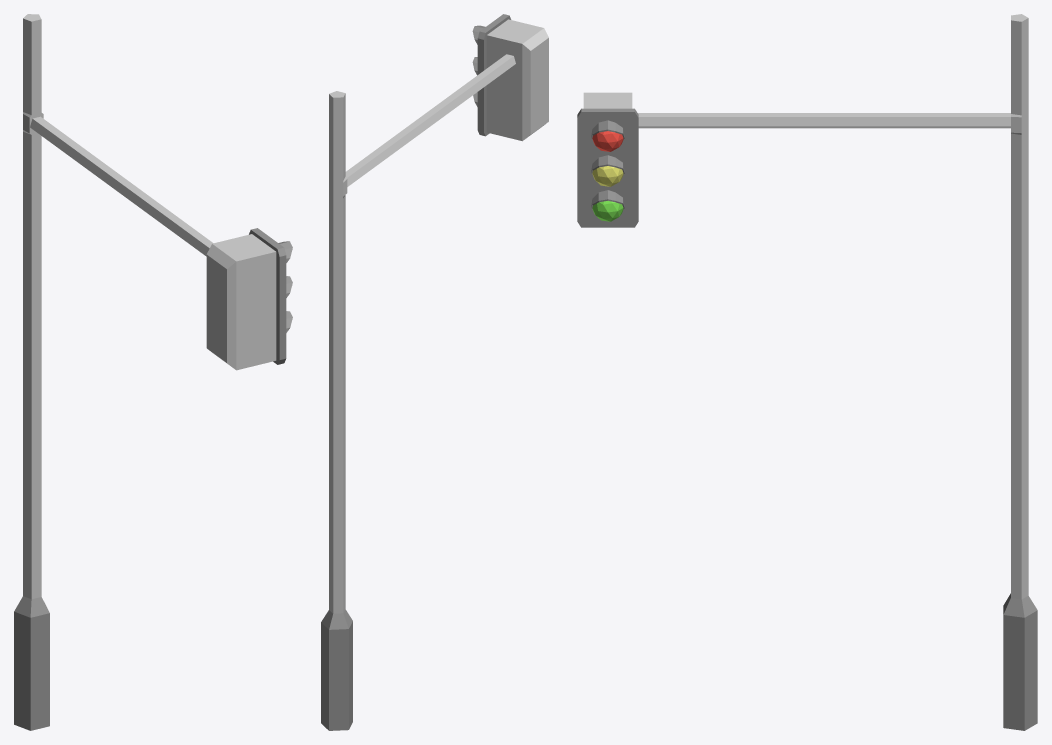
File: quaternius_cc0-traffic-light-1428.glb
3 views of the same model, side by side, from view 1: azimuth 30°, elevation 25°; view 2: azimuth 150°, elevation 25°; view 3: azimuth 270°, elevation 25° (orthographic). The views are drawn at different scales.
Parts seen in each view (by area): view 1: TrafficLight_2; view 2: TrafficLight_2; view 3: TrafficLight_2.
Part boxes in pixels (x1,y1,x2,y2): TrafficLight_2: (14,14,292,730); TrafficLight_2: (321,14,548,730); TrafficLight_2: (577,14,1037,730).
Bounding box in the file's own units: 0.123 × 1.13 × 0.6708.
